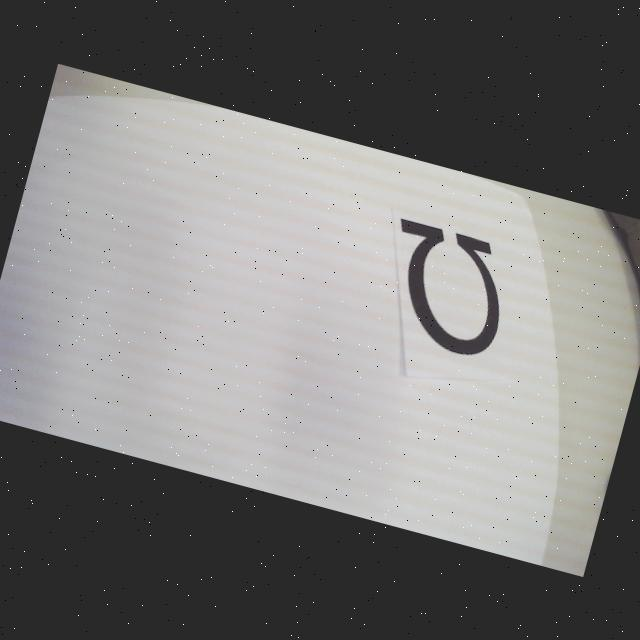OMEGA: (369, 216, 518, 362)
